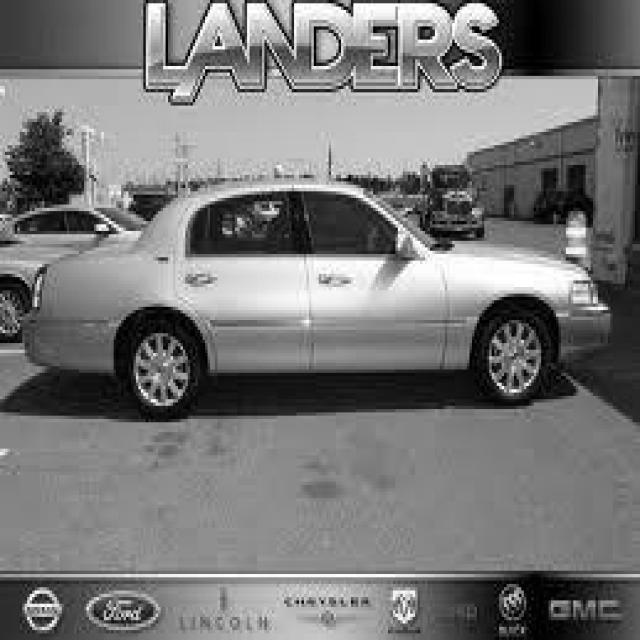car: (17, 178, 613, 419)
